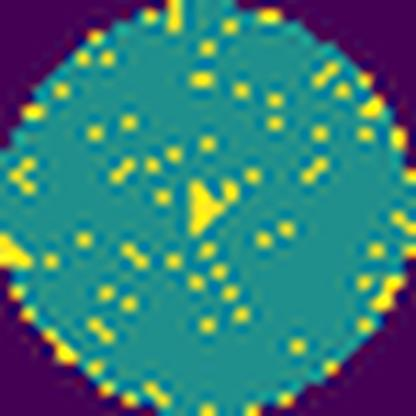Center: (184, 172, 239, 236)
